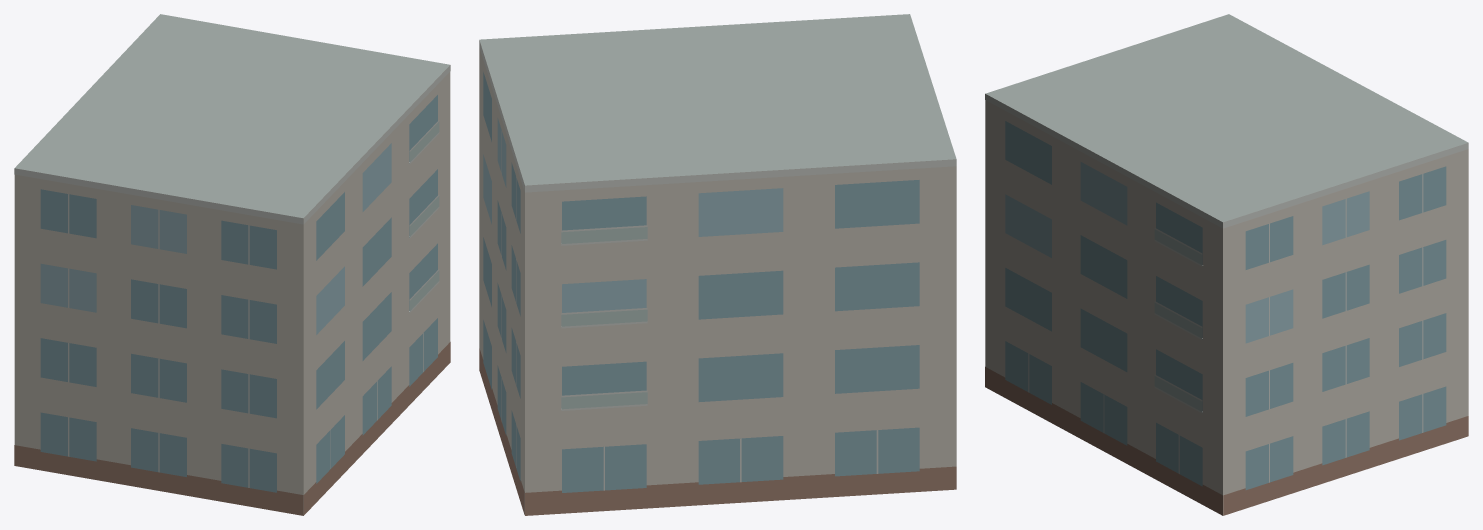
Rendered from survey-upis-32660068.glb.
The picture shows the model from 3 angles, left to right: view 1: azimuth 30°, elevation 25°; view 2: azimuth 150°, elevation 25°; view 3: azimuth 270°, elevation 25°; orthographic projection. The views are drawn at different scales.
Visible parts, largest first — view 1: survey-upis-32660068.tmp; view 2: survey-upis-32660068.tmp; view 3: survey-upis-32660068.tmp.
Part boxes in pixels (bbox=[...]): survey-upis-32660068.tmp: bbox=[14, 14, 450, 515]; survey-upis-32660068.tmp: bbox=[479, 14, 956, 515]; survey-upis-32660068.tmp: bbox=[985, 14, 1468, 515].
Size of the model in its own units: 17.52 by 11.5 by 17.18.
